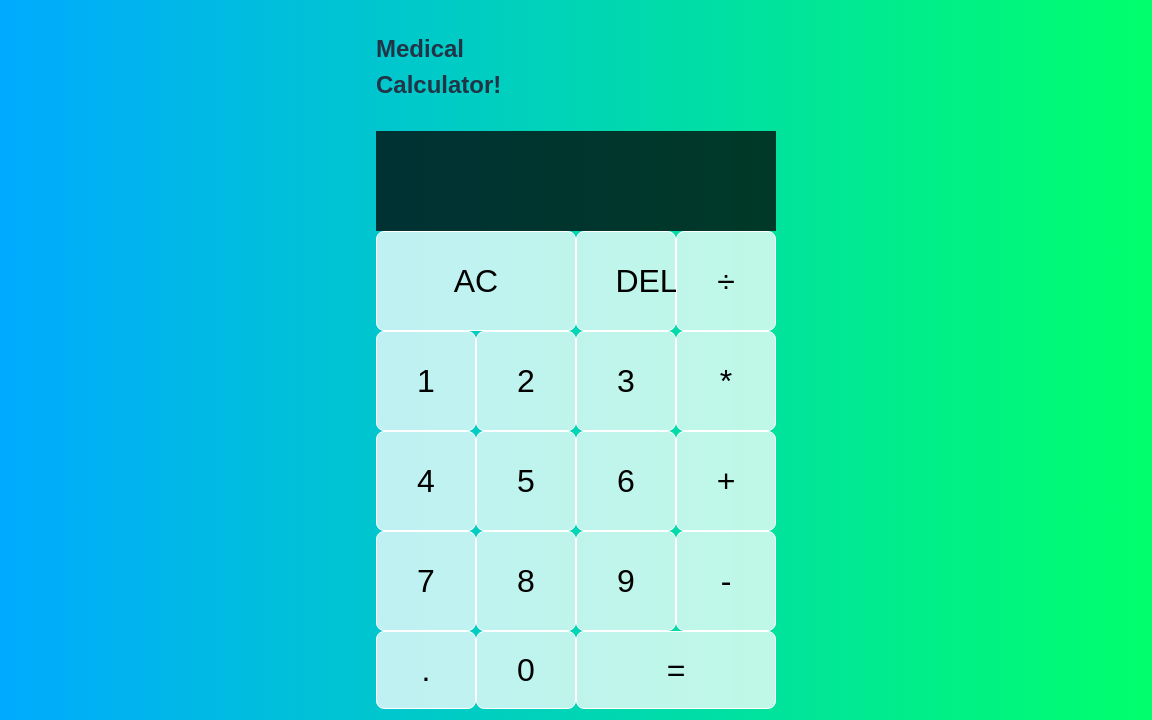
Scenario: Calculator App › updates display when clicking numbers
This screenshot has width=1152, height=720.
Click the button "1".
click(426, 381)  # box [376,331,476,431]
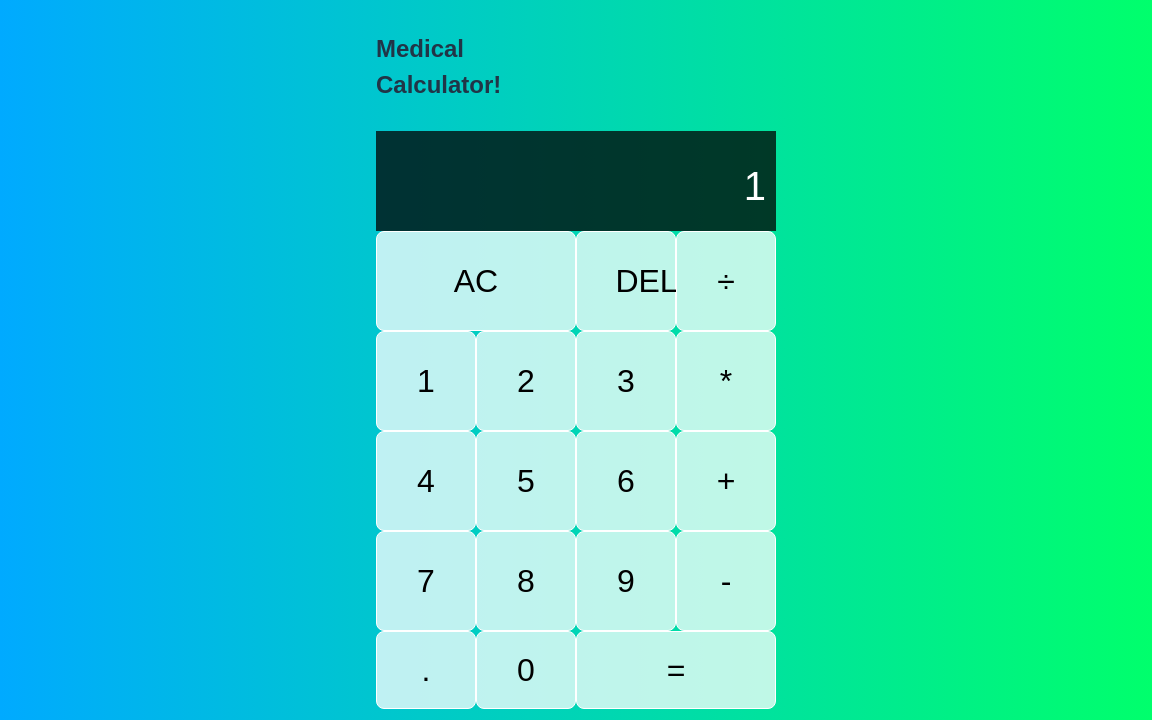
Click the button "2".
click(526, 381)  # box [476,331,576,431]
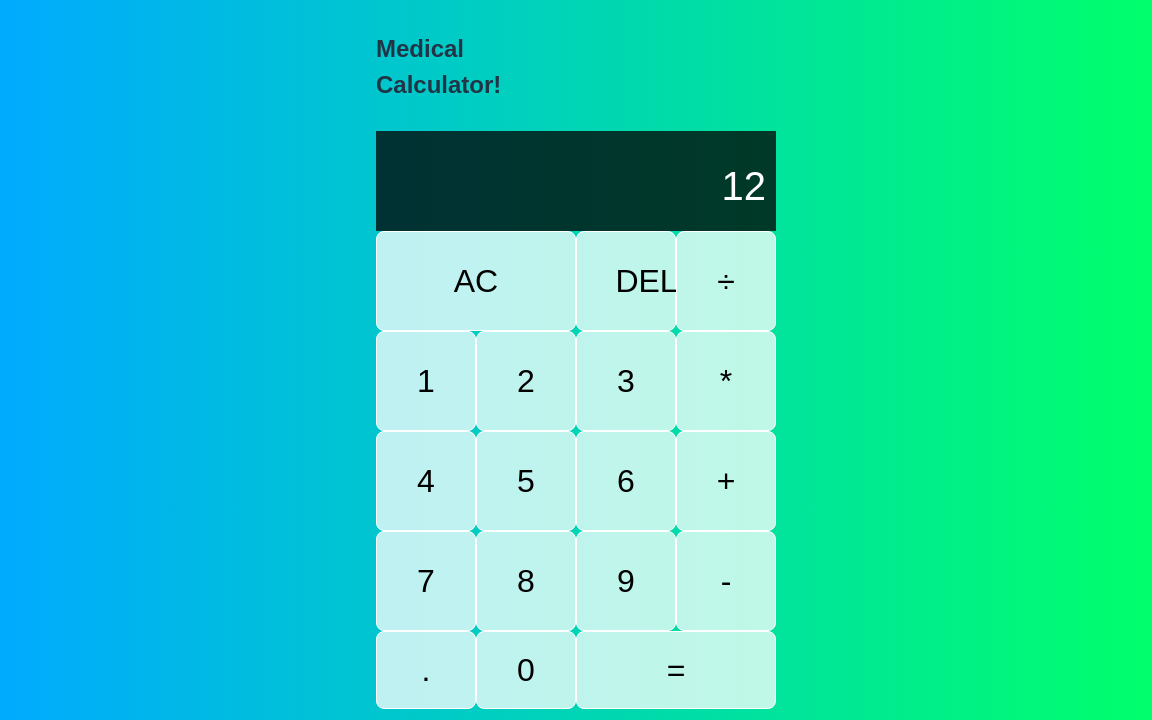
Click the button "3".
click(626, 381)  # box [576,331,676,431]
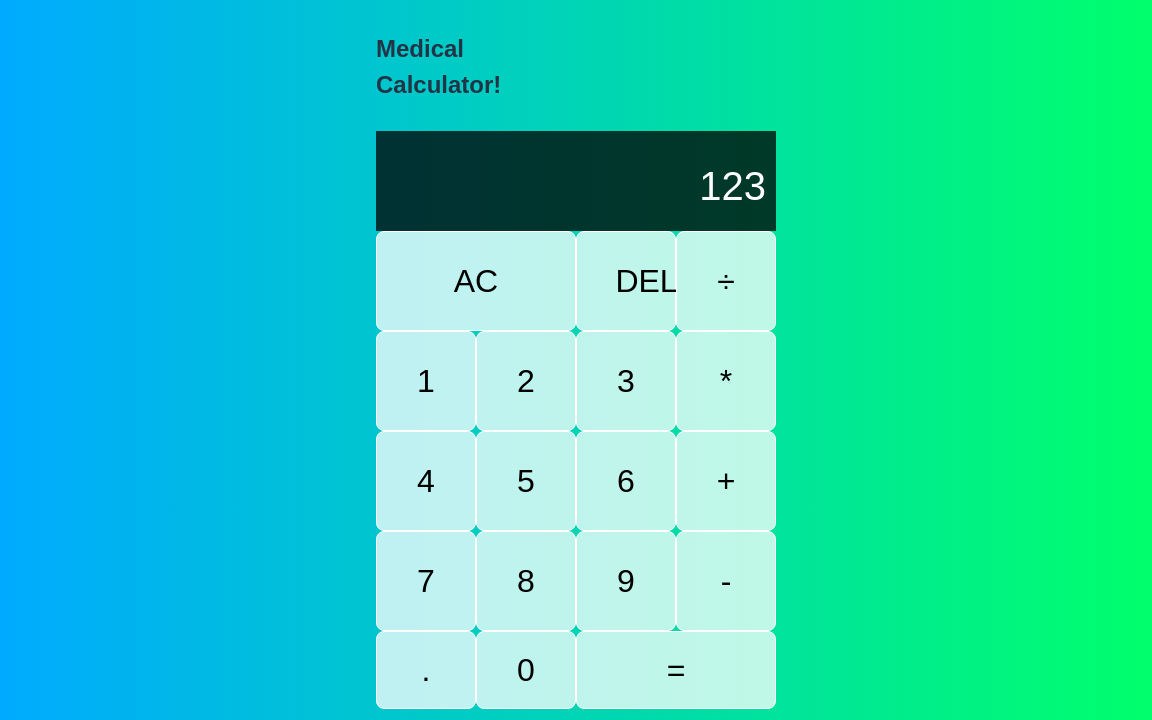
Result: the text with test id "display" reads "123" at [699,164,766,208]
